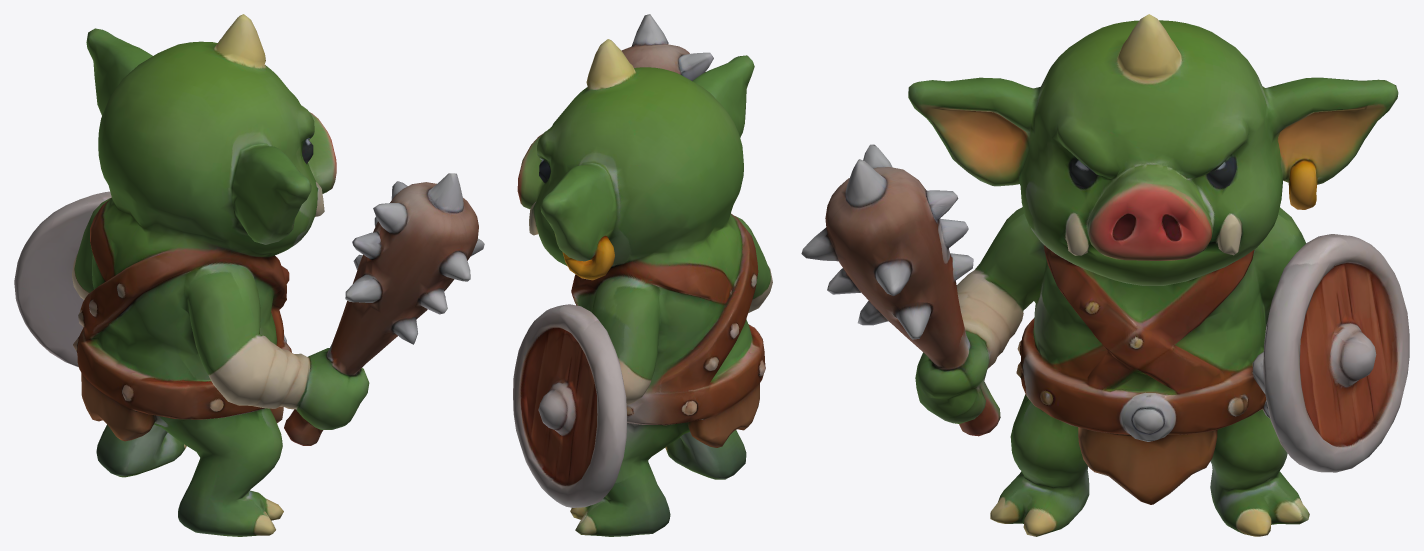
File: ganon_pawn_moblin.glb
3 renders of one model, left to right at view 1: azimuth 30°, elevation 25°; view 2: azimuth 150°, elevation 25°; view 3: azimuth 270°, elevation 25°, orthographic. The views are drawn at different scales.
Parts seen in each view (by area): view 1: tripo_node_12e54575-346c-4c16-80a4-80aed9f69cf8; view 2: tripo_node_12e54575-346c-4c16-80a4-80aed9f69cf8; view 3: tripo_node_12e54575-346c-4c16-80a4-80aed9f69cf8.
Boxes of the visible parts, x1,y1,x2,y2 form: tripo_node_12e54575-346c-4c16-80a4-80aed9f69cf8: (14, 14, 484, 536); tripo_node_12e54575-346c-4c16-80a4-80aed9f69cf8: (513, 14, 772, 536); tripo_node_12e54575-346c-4c16-80a4-80aed9f69cf8: (801, 14, 1409, 536).
Bounding box in the file's own units: 0.5676 × 0.926 × 0.9535.
1 material, 1 textured.
